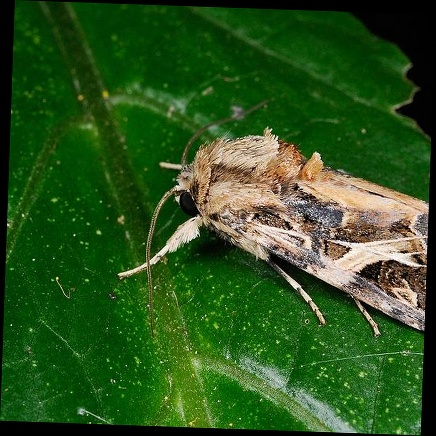Spodoptera litura: (119, 100, 428, 343)
